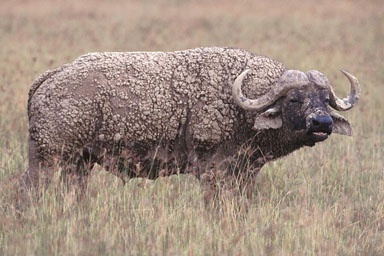buffalo: (27, 46, 361, 213)
